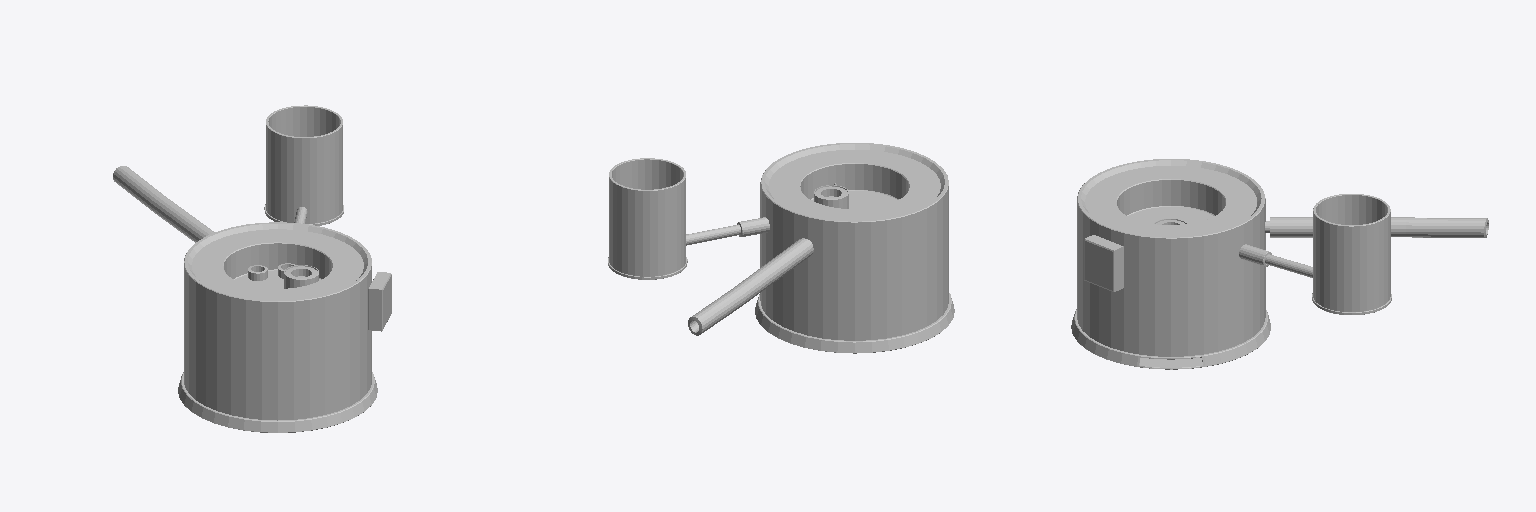
Rendered from CP3WorkStationMesh2.obj.
3 renders of one model, left to right at view 1: azimuth 30°, elevation 25°; view 2: azimuth 150°, elevation 25°; view 3: azimuth 270°, elevation 25°, orthographic.
Visible parts, largest first — view 1: CP3WorkStationMesh:Mesh; view 2: CP3WorkStationMesh:Mesh; view 3: CP3WorkStationMesh:Mesh.
Part boxes in pixels (x1,y1,x2,y2): CP3WorkStationMesh:Mesh: (113,105,391,432); CP3WorkStationMesh:Mesh: (608,143,954,353); CP3WorkStationMesh:Mesh: (1071,159,1488,369).
Size of the model in its own units: 15.66 by 10.96 by 23.77.